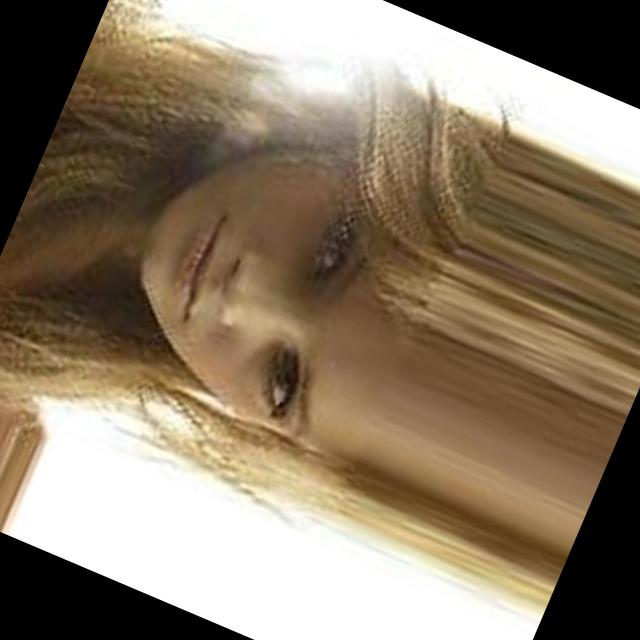bareface: (86, 93, 424, 453)
